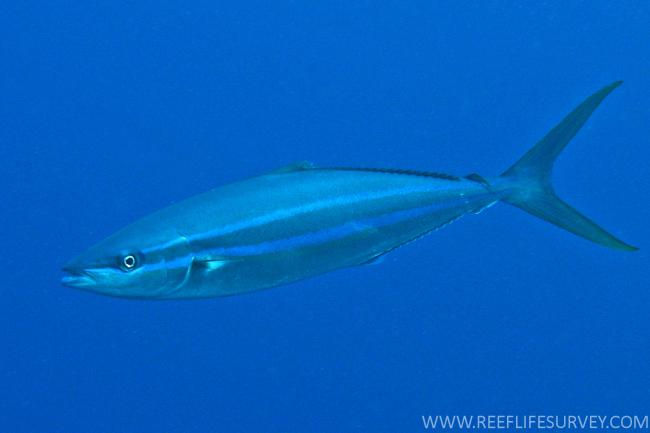fish: (61, 80, 639, 300)
